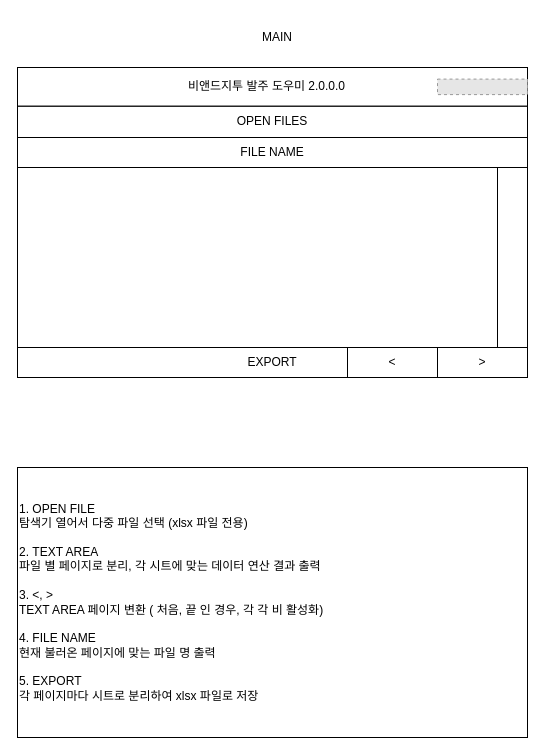
This 545x755 diagram has some shape labels left out. Grey dashed boxes stand in for pictures. The centre of each missing label's shape, as x and y in pixels:
TEXT AREA: the point at 257,257
스 크 롤: the point at 512,257
